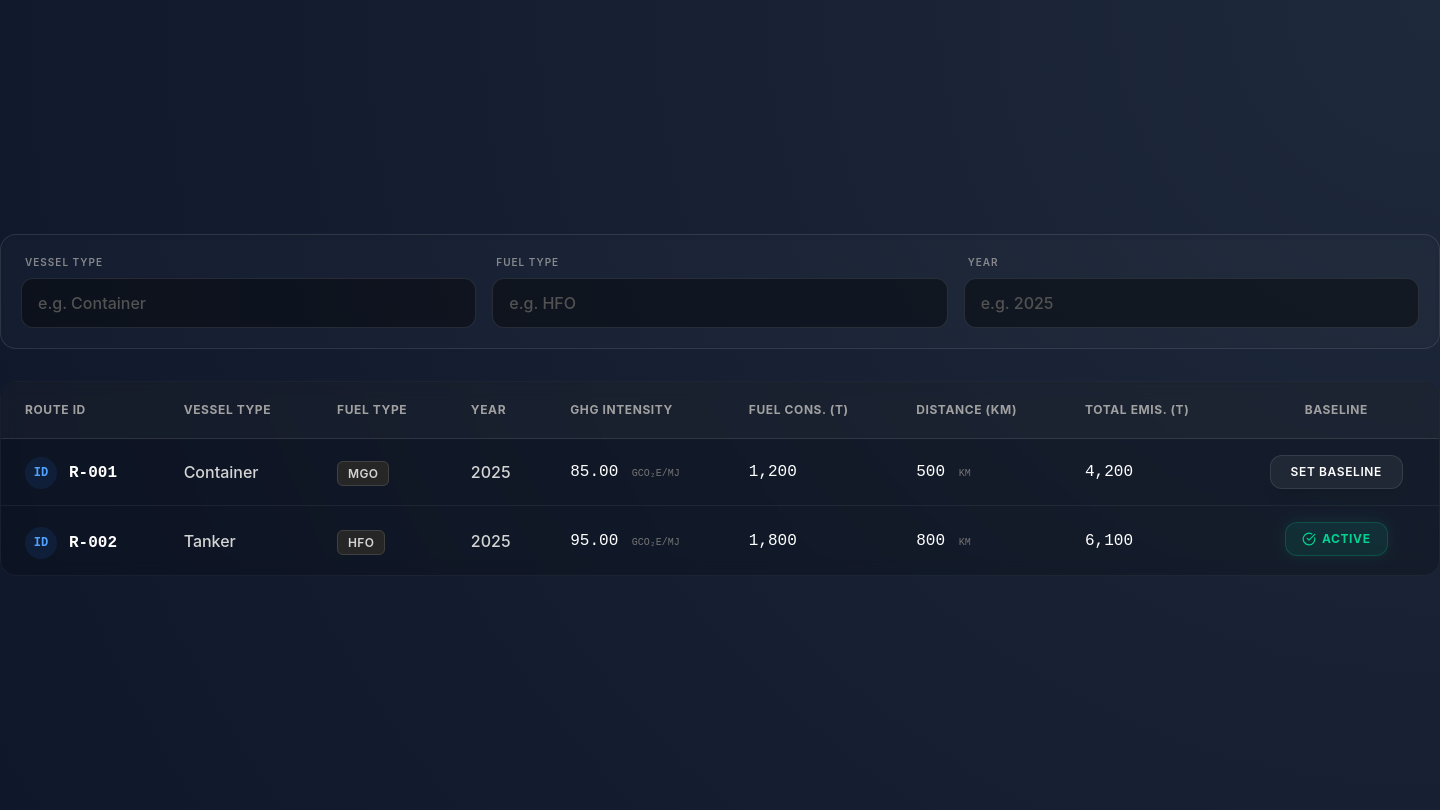
it: RoutesTable › filters by vessel type
The width and height of the screenshot is (1440, 810).
Step 1. Type "container" into the field with placeholder "e.g. Container" → (249, 303), box x1=21 y1=278 x2=476 y2=328
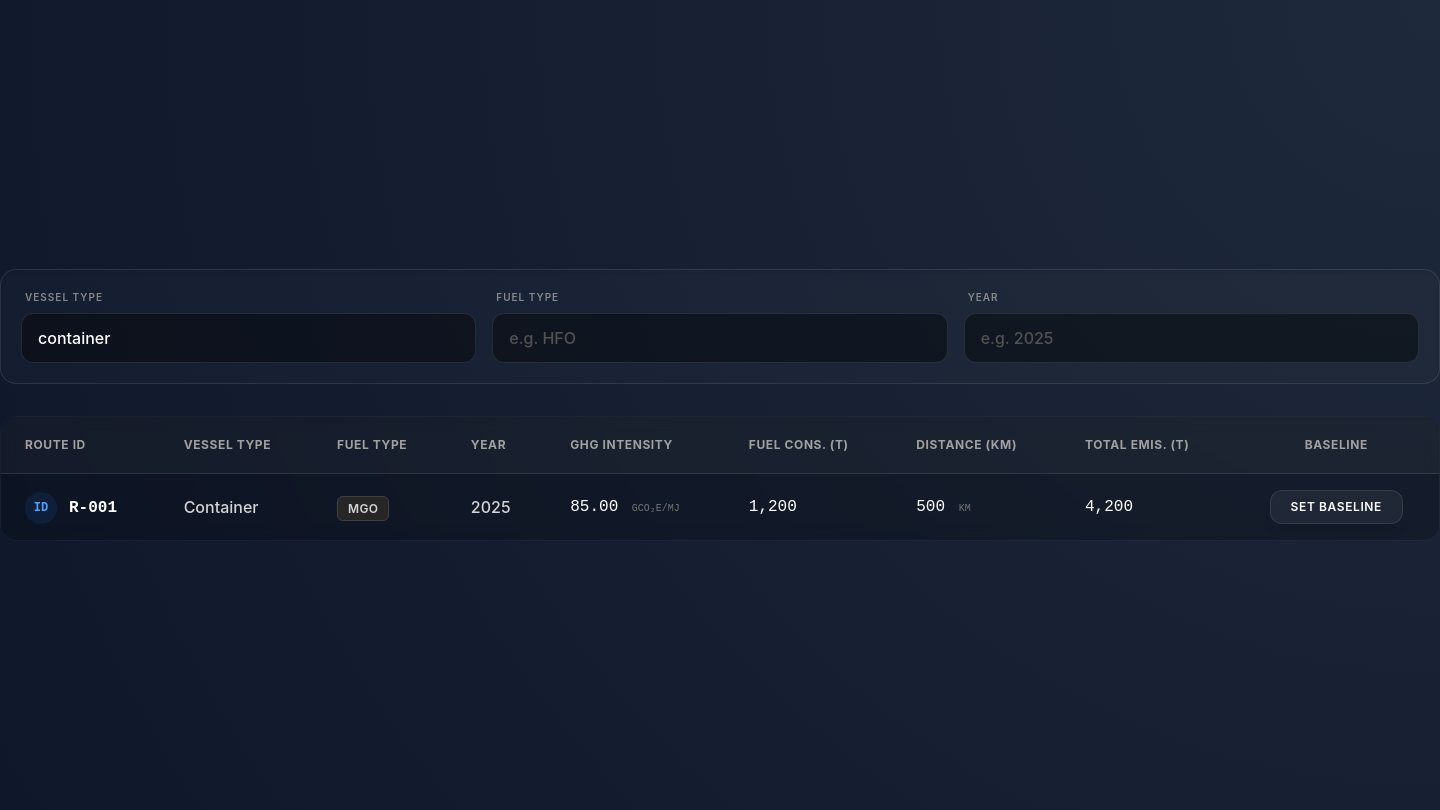
Check: the text "R-001" is shown, box x1=69 y1=499 x2=117 y2=517
Check: the text "R-002" is gone
